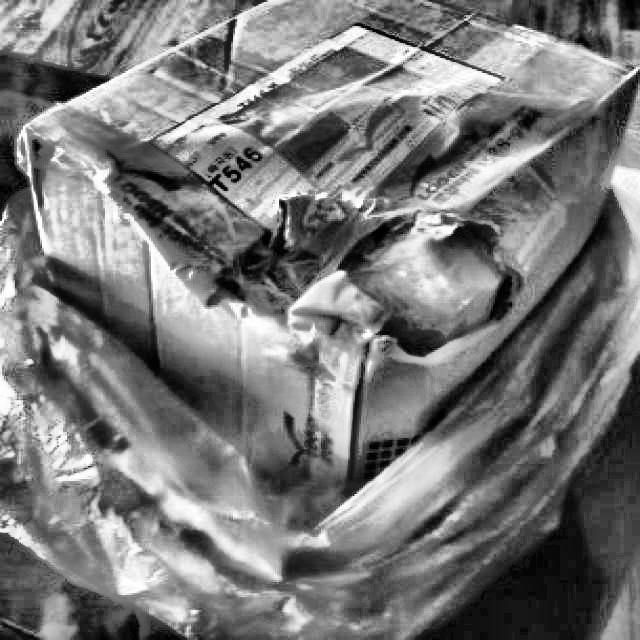box: (14, 0, 638, 518)
hole: (230, 202, 526, 368)
